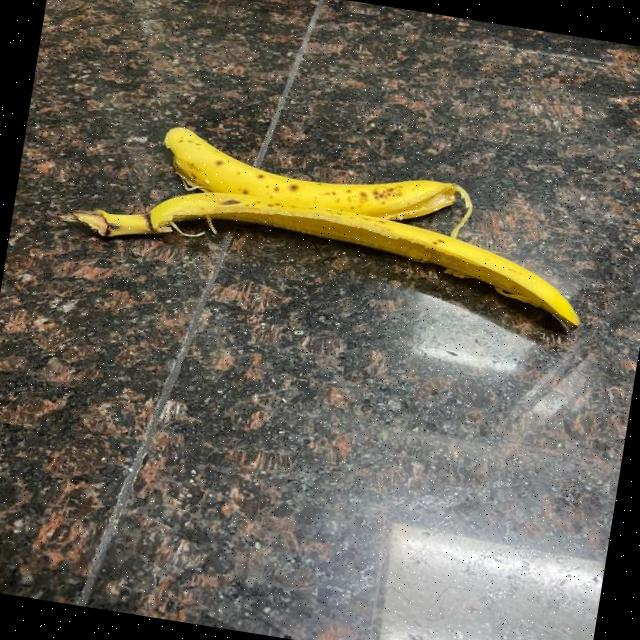banana-peel: (58, 166, 592, 336), (155, 122, 478, 236)
